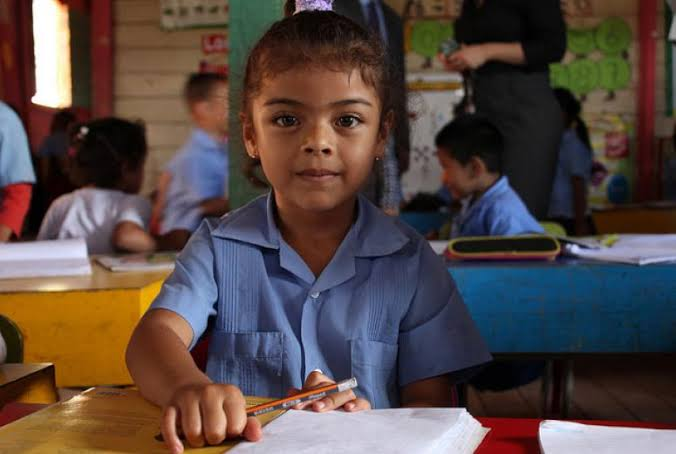student: (226, 26, 398, 206)
